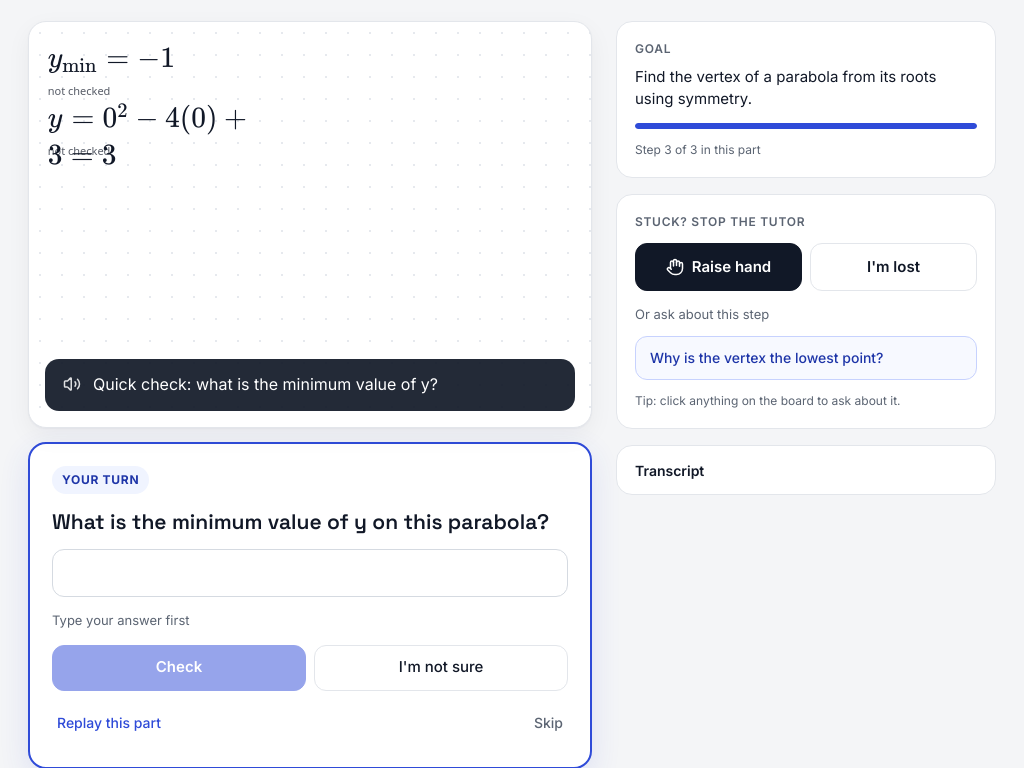
Test: Recap and practice › practice: one question at a time; the end shows Solid/Shaky per idea with no percentage
This screenshot has width=1024, height=768.
Earlier steps of the test are not shown.
Later steps or results of the test are not shown.
(page scrolled)
Type "-1" into the field named "Your answer" at coordinates (310, 573), box [52,549,568,597]
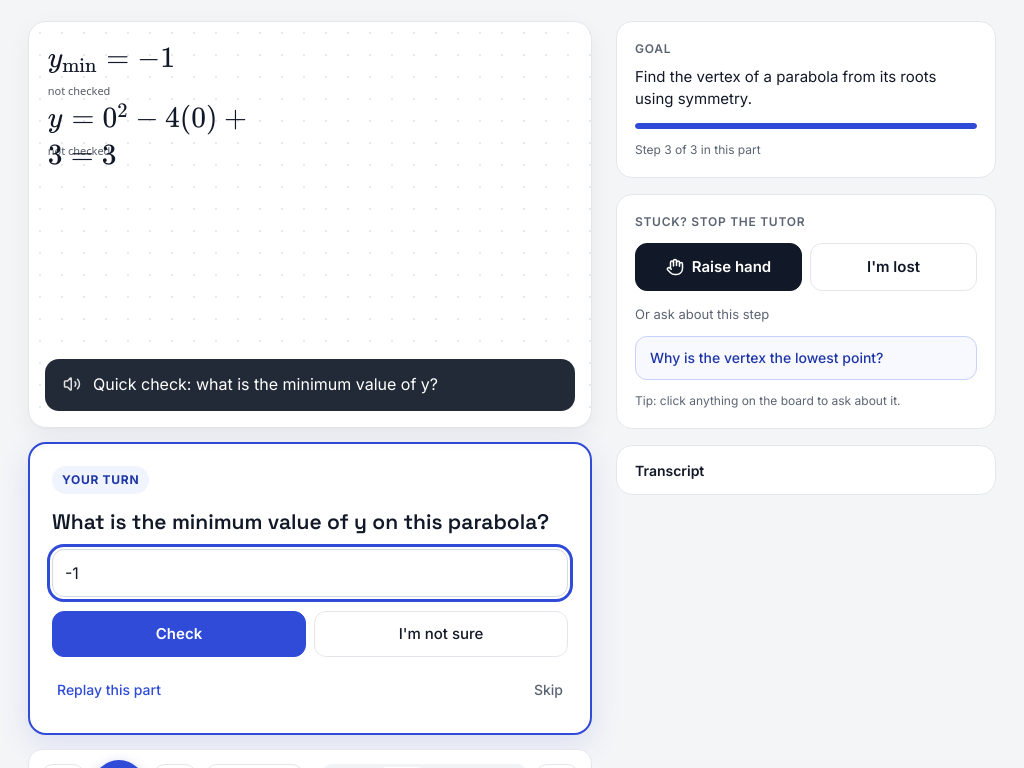
Click the button "Check" at coordinates (179, 634), box [52,611,306,657]
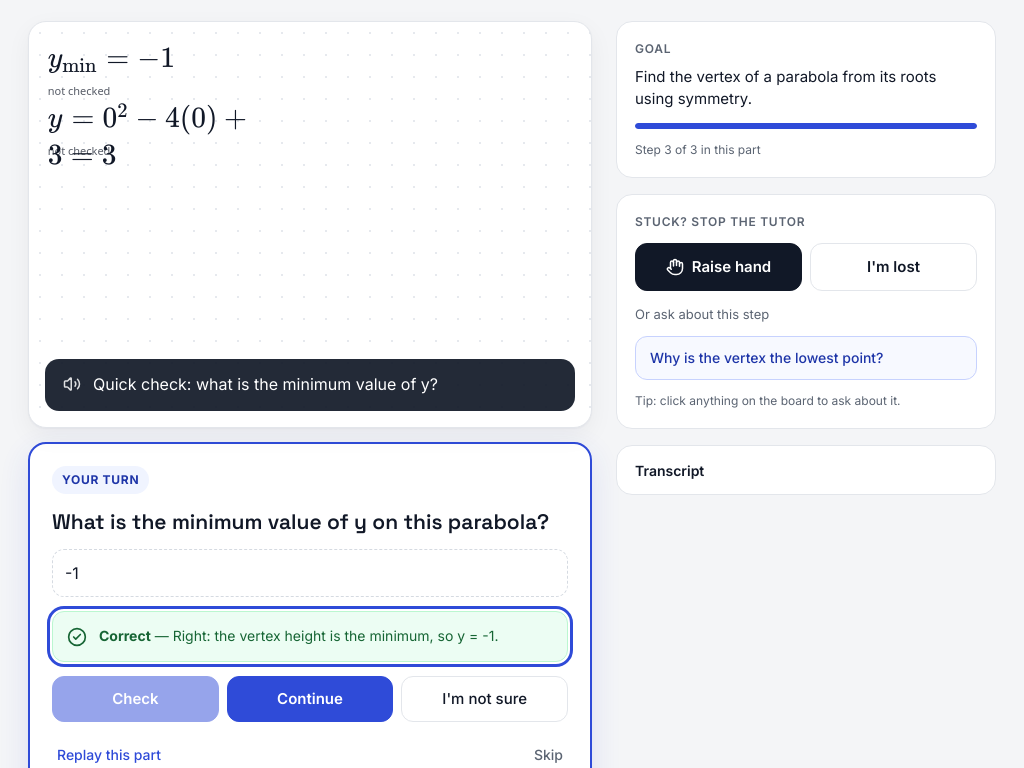
Click the button "Continue" at coordinates (310, 699), box [227,676,393,722]
Wait 750 ms
(page scrolled)
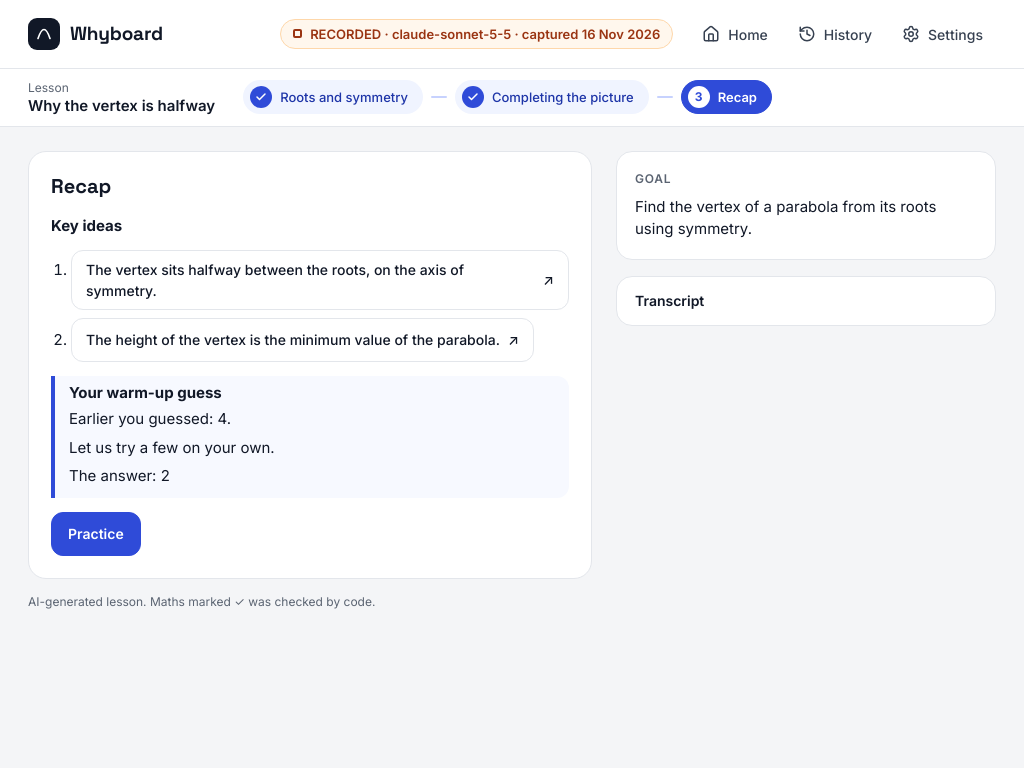
Click the button "Practice" at coordinates (96, 534), box [51,512,141,556]
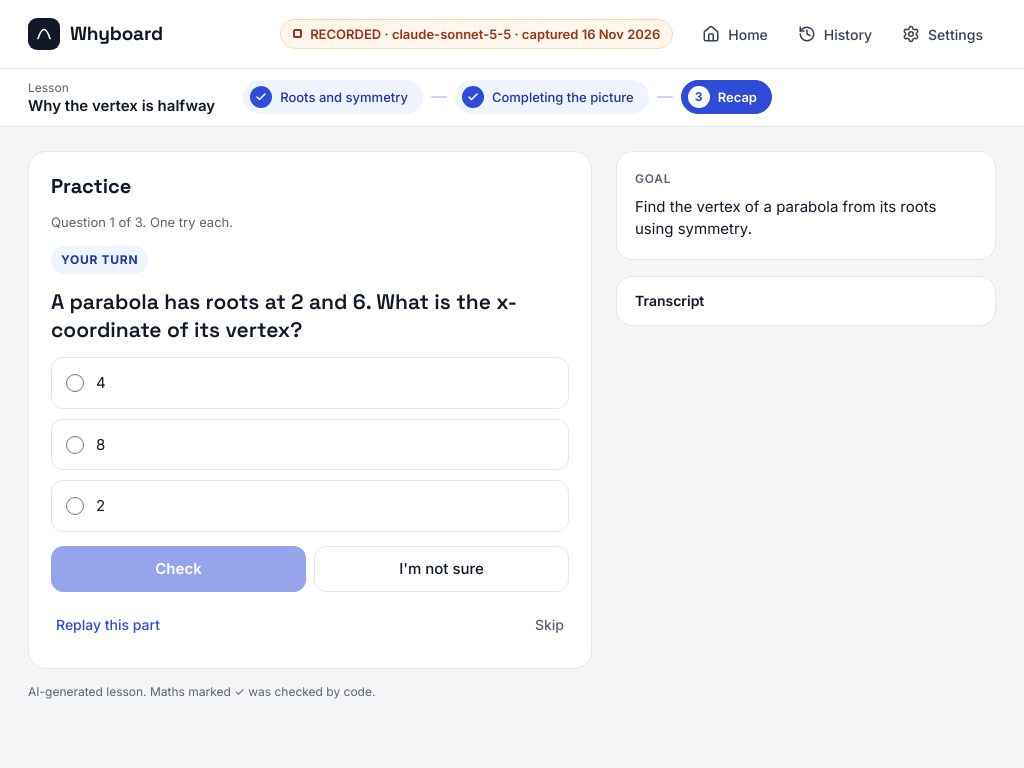
Result: the number of elements named "Checkpoint" is 1 at [51,246,569,646]
Click the radio button labelled "4" at coordinates (75, 383), box [66,374,84,392]
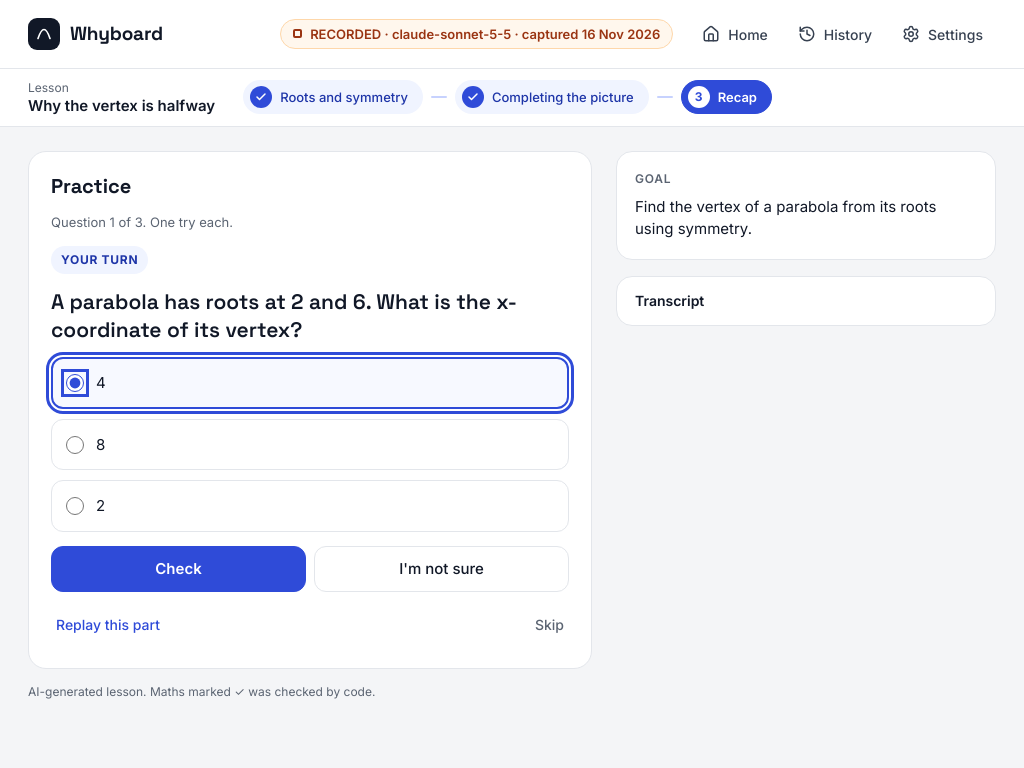
Click the button "Check" at coordinates (178, 569), box [51,546,306,592]
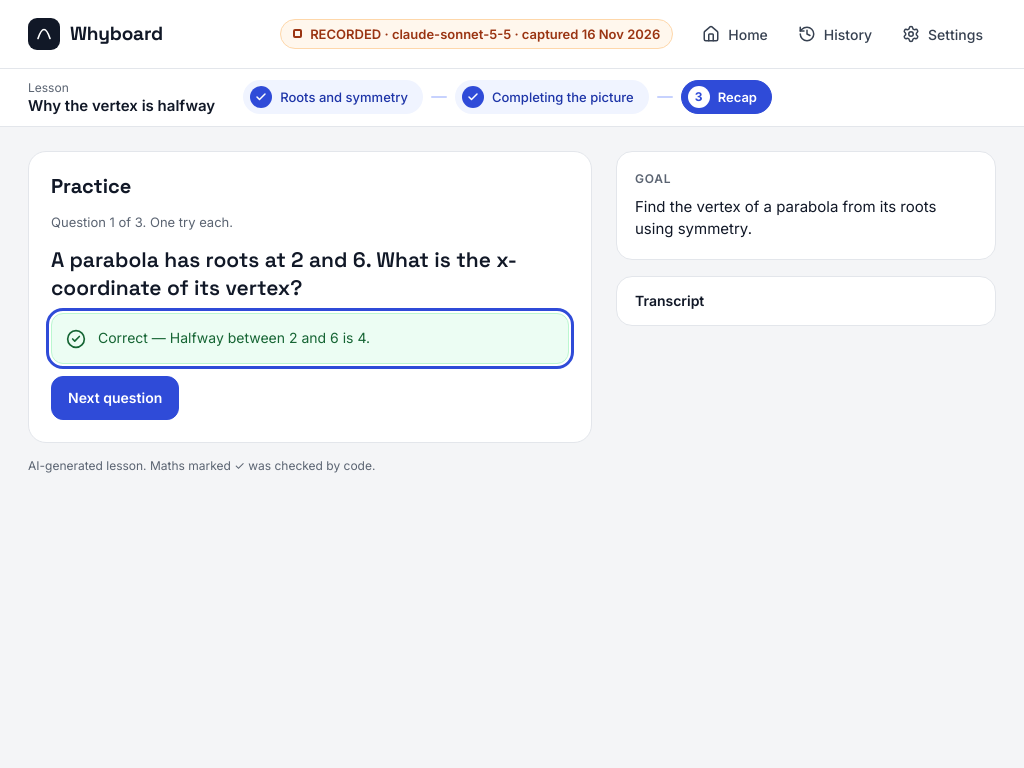
Result: the text "Correct — Halfway between 2 and 6 is 4." is shown at [51,313,569,364]
